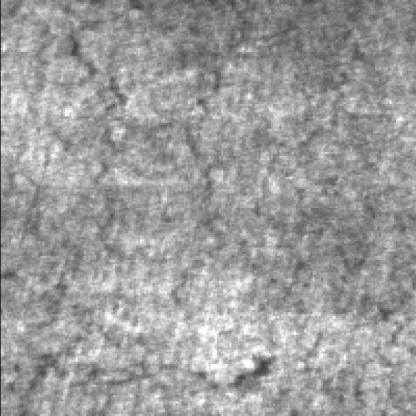crazing: (39, 0, 212, 302), (11, 320, 274, 406)
